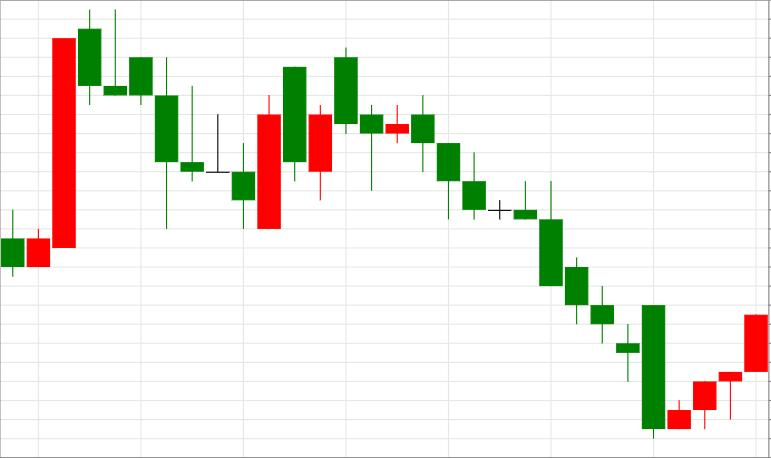bullish_engulfing_rise: (79, 8, 280, 230)
